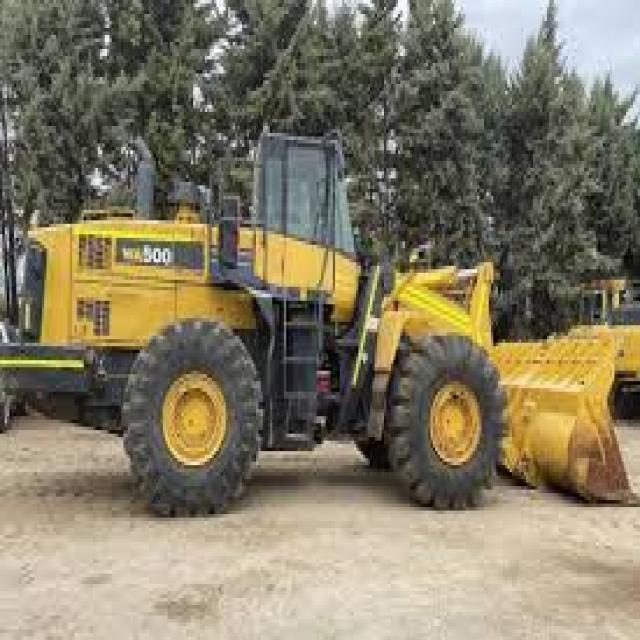buldozerpayloadergrader: (8, 121, 640, 516)
